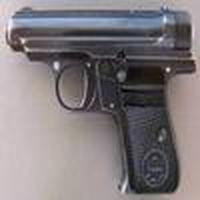gun: (4, 8, 200, 196)
